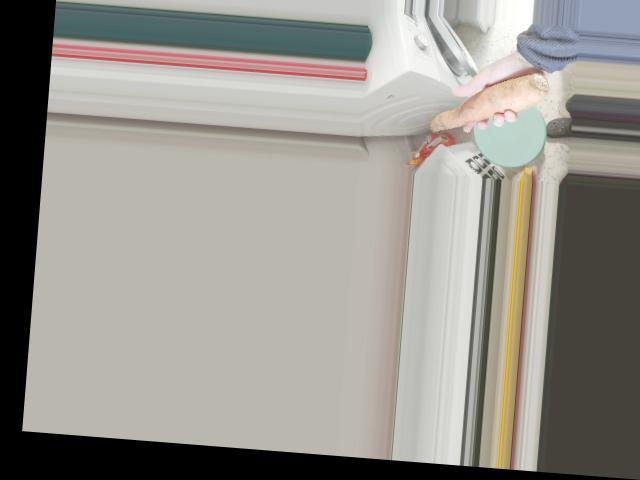sweet_potato: (420, 61, 552, 145)
